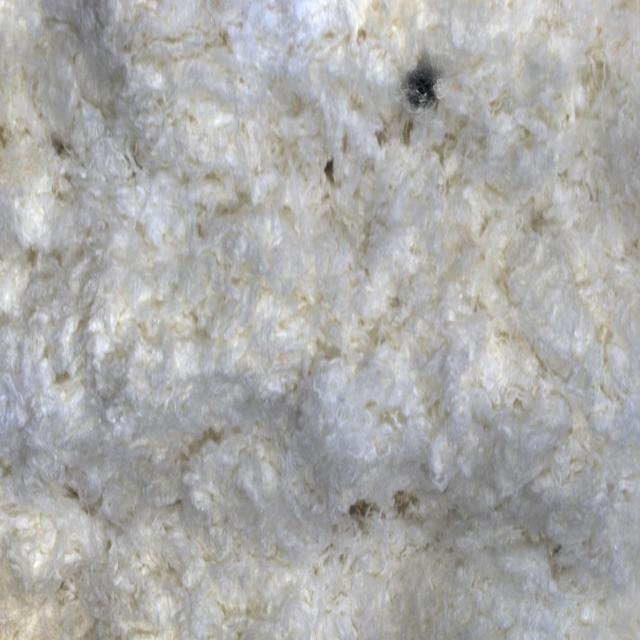dust: (388, 29, 462, 147)
